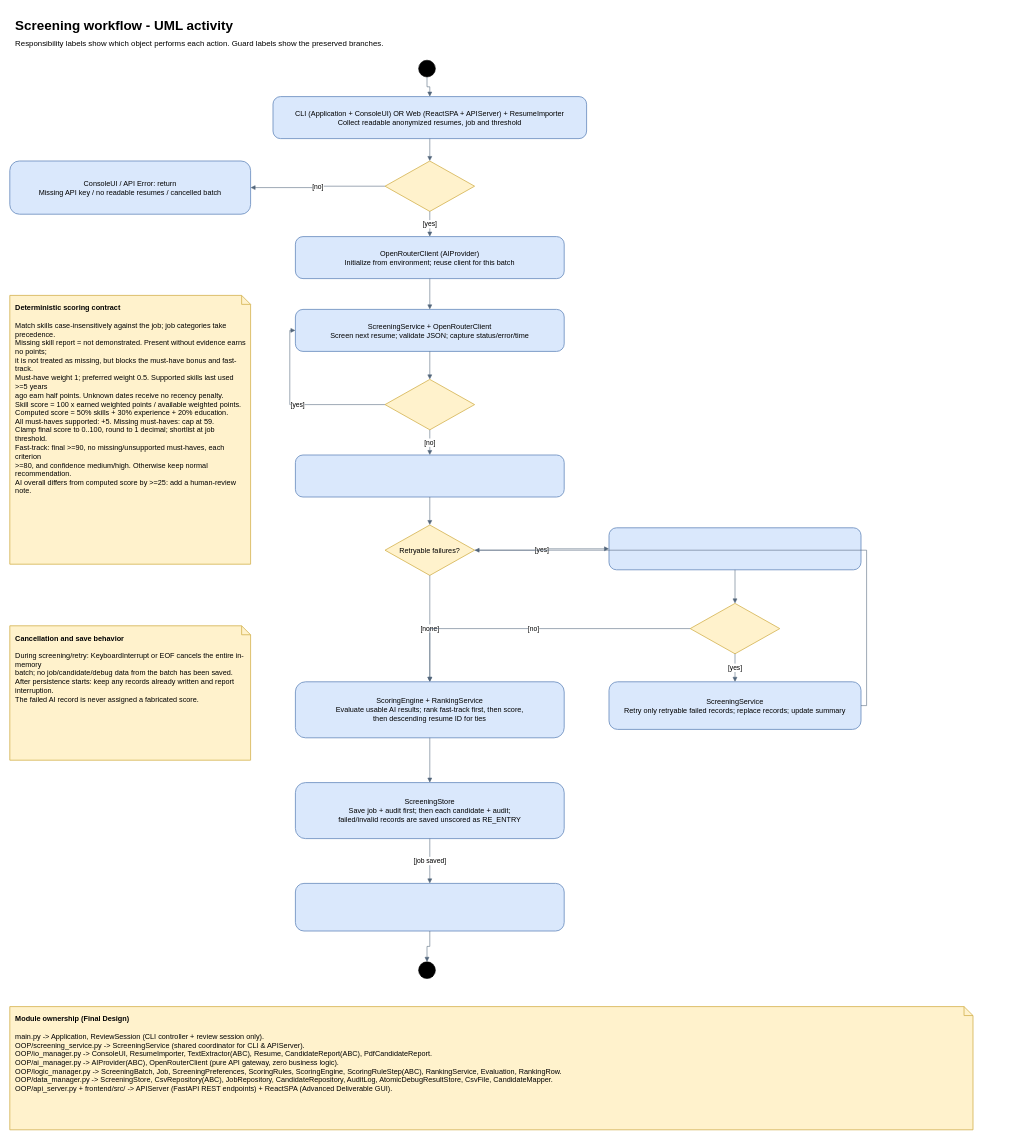
Some shapes in this 1028 by 1140 pixel diagram are drawn without their labels. Here are the shapes that lost their labels. From the top down, the centre of each, then its label:
At point 429,186: "Resumes ready?".
At point 429,404: "More resumes?".
At point 429,475: "ConsoleUI / API Response + ScreeningBatch Report successes and failures".
At point 734,548: "ConsoleUI / User Ask whether to retry temporary failures".
At point 735,628: "Retry chosen?".
At point 429,907: "AtomicDebugResultStore Write optional JSON once; warn on failure; return results".
